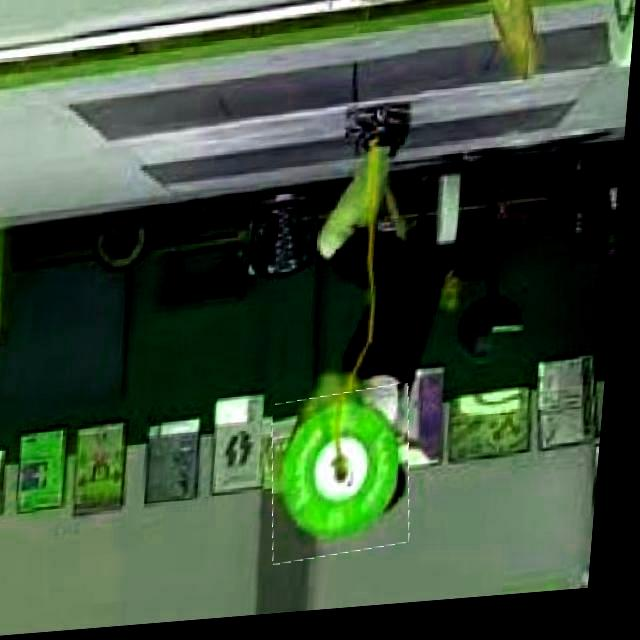barbell: (273, 392, 425, 569)
